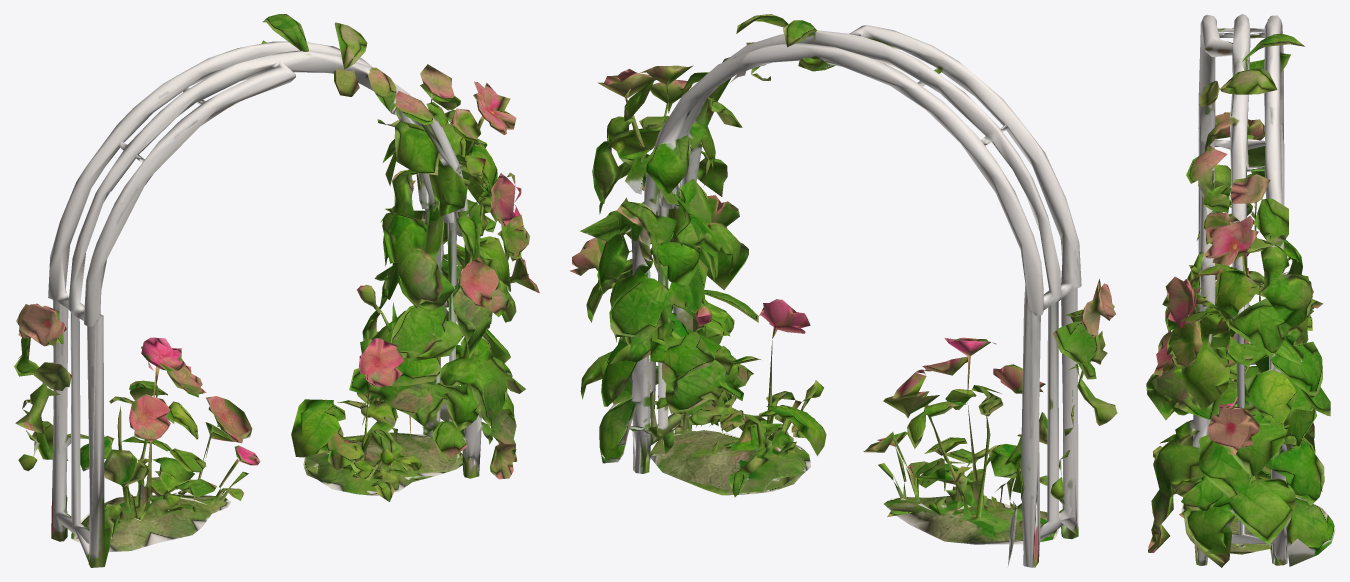
The model's file is vine_arch.glb.
3 views of the same model, side by side, from view 1: azimuth 30°, elevation 25°; view 2: azimuth 150°, elevation 25°; view 3: azimuth 270°, elevation 25° (orthographic). The views are drawn at different scales.
Parts seen in each view (by area): view 1: Mesh_0; view 2: Mesh_0; view 3: Mesh_0.
Part boxes in pixels (left/top/right/bottom): Mesh_0: left=14, top=14, right=539, bottom=567; Mesh_0: left=570, top=14, right=1117, bottom=567; Mesh_0: left=1146, top=14, right=1335, bottom=567.
Bounding box in the file's own units: 1.9 × 1.63 × 0.6142.
Materials: 1 (1 with a texture image).
